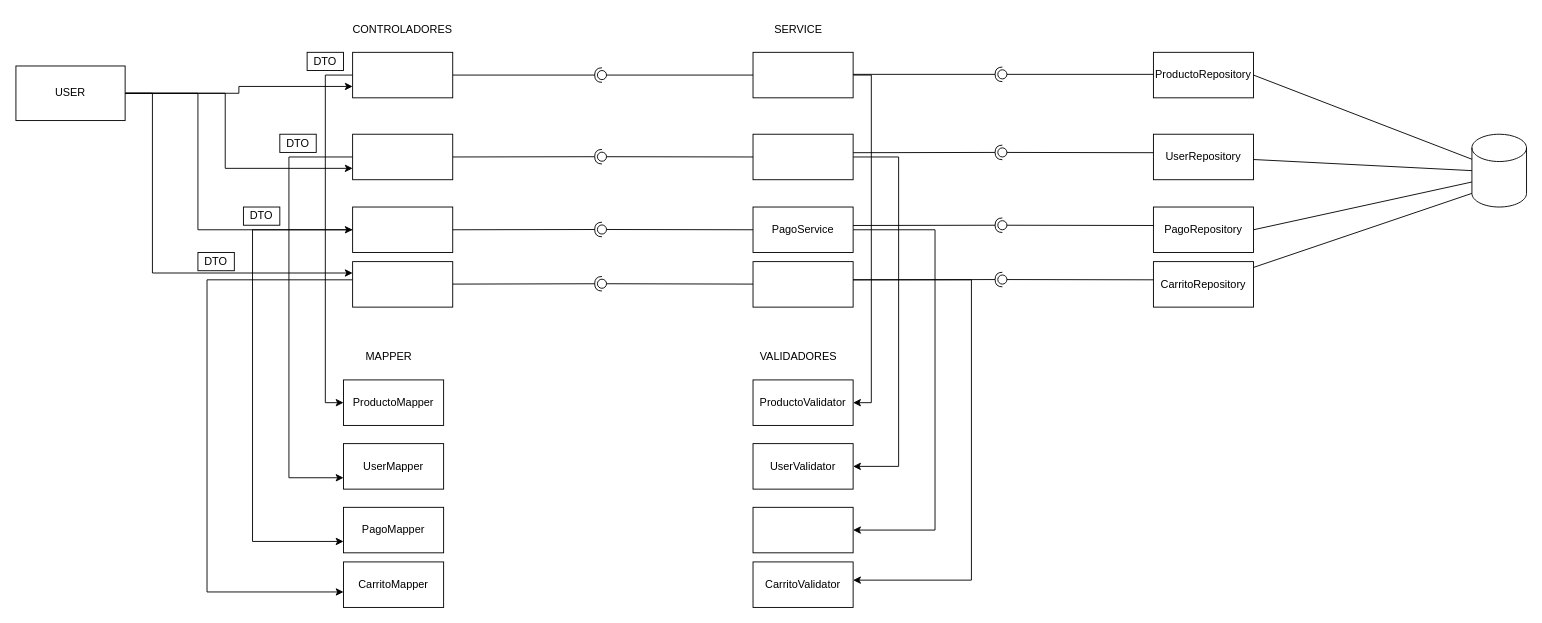
The diagram is 1542 pixels wide and 623 high, and some of its shapes have lost their labels. Each missing label, with the centre of its shape:
"BD" belongs at (1499,170).
"CarritoController" belongs at (402,284).
"CarritoService" belongs at (802,284).
"PagoControler" belongs at (402,229).
"PagoValidator" belongs at (802,529).
"ProductoController" belongs at (402,74).
"ProductoService" belongs at (802,74).
"UserControler" belongs at (402,156).
"UserService" belongs at (802,156).
